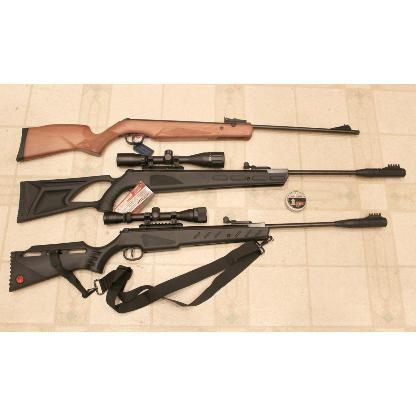gun: (9, 206, 390, 292), (15, 152, 407, 220), (15, 112, 365, 160)
